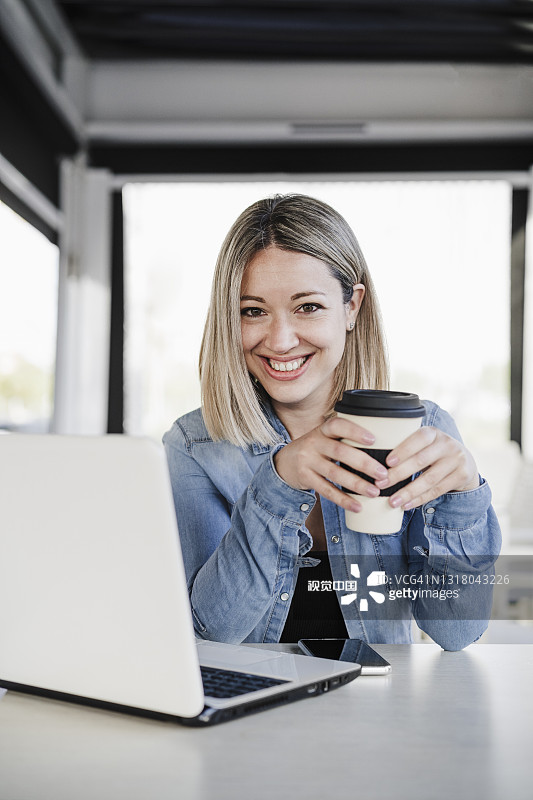no-phone: (253, 408, 394, 513), (375, 411, 488, 524)
